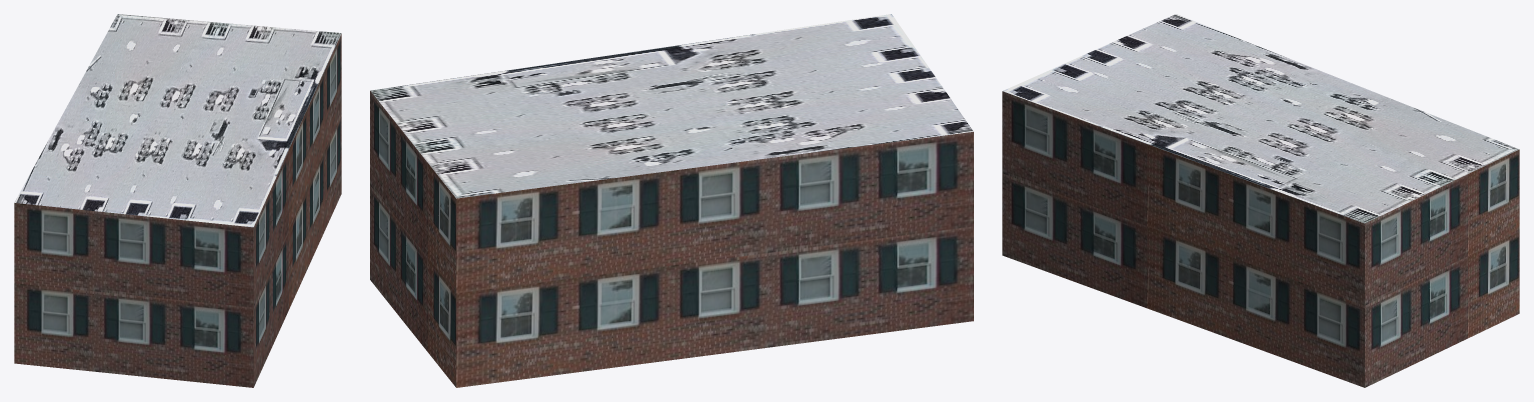
The model's file is ResTex__500.fbx.
The picture shows the model from 3 angles, left to right: view 1: azimuth 30°, elevation 25°; view 2: azimuth 150°, elevation 25°; view 3: azimuth 270°, elevation 25°; orthographic projection. The views are drawn at different scales.
Visible parts, largest first — view 1: CityEngineMaterial_14_m, CityEngineMaterial_2_m; view 2: CityEngineMaterial_14_m, CityEngineMaterial_2_m; view 3: CityEngineMaterial_14_m, CityEngineMaterial_2_m.
Boxes of the visible parts, x1=… form: CityEngineMaterial_14_m: x1=14, y1=34, x2=341, y2=387; CityEngineMaterial_2_m: x1=14, y1=14, x2=341, y2=227; CityEngineMaterial_14_m: x1=370, y1=91, x2=973, y2=387; CityEngineMaterial_2_m: x1=370, y1=14, x2=973, y2=198; CityEngineMaterial_14_m: x1=1002, y1=91, x2=1519, y2=387; CityEngineMaterial_2_m: x1=1002, y1=14, x2=1518, y2=223.
Bounding box in the file's own units: 16.41 × 6 × 17.11.
Materials: 2 (2 with a texture image).
